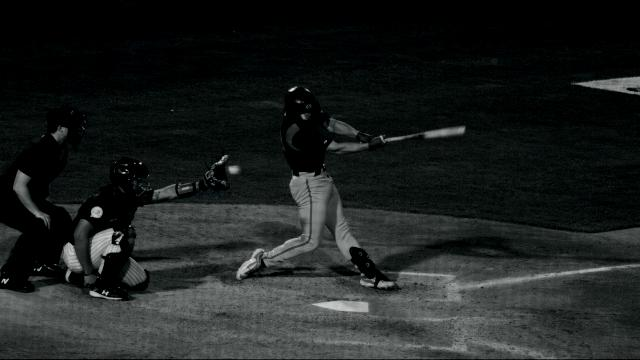baseball bat: (385, 124, 465, 148)
sports ball: (228, 165, 242, 177)
